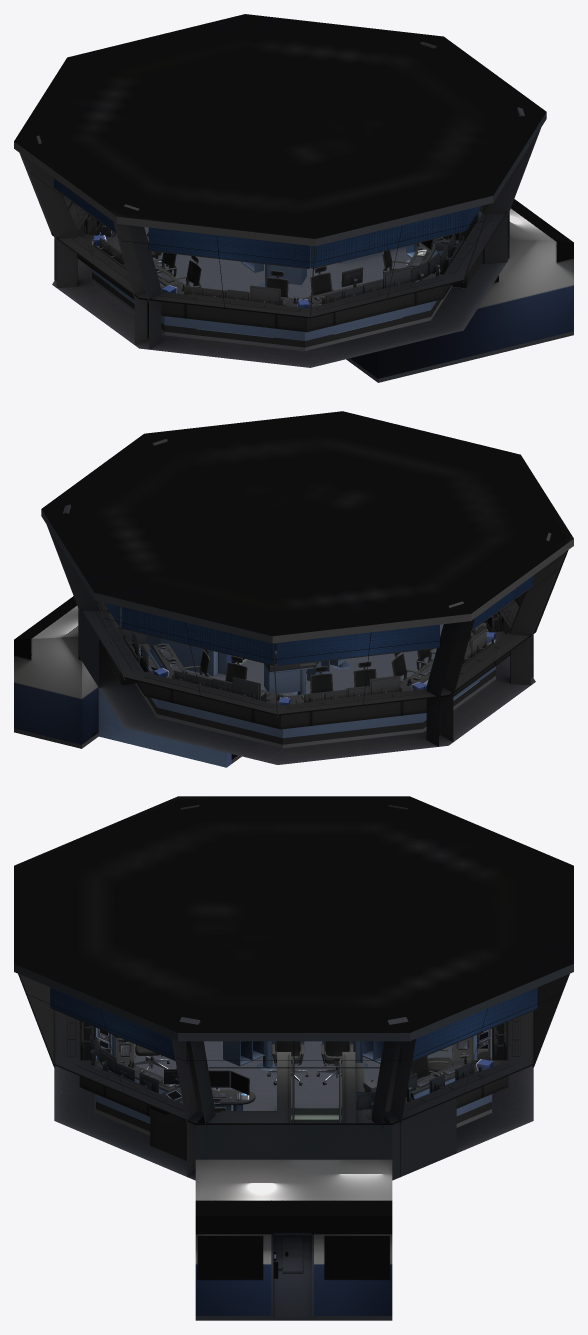
File: taitai max.fbx
3 renders of one model, top to bottom at view 1: azimuth 30°, elevation 25°; view 2: azimuth 150°, elevation 25°; view 3: azimuth 270°, elevation 25°, orthographic. The views are drawn at different scales.
Visible parts, largest first — view 1: Cylinder.025, Cylinder.046, Cube.017, Cylinder.004, Cylinder.035, Cube.058, Cube.036, Cylinder.012, Cube.031; view 2: Cylinder.025, Cylinder.046, Cube.017, Cylinder.004, Cylinder.035, Cube.058, Cube.014, Cylinder.008, Cube.044, Cube.048; view 3: Cylinder.025, Cube.017, Cylinder.046, Cylinder.004, Cylinder.035, Cylinder.003, Cube.058, Cube.063, Cube.007, Cylinder.002, Cylinder.001.
Part boxes in pixels (left/top/right/bottom): Cylinder.025: left=14, top=14, right=546, bottom=246; Cylinder.046: left=22, top=42, right=540, bottom=350; Cube.017: left=340, top=199, right=573, bottom=382; Cylinder.004: left=52, top=227, right=509, bottom=367; Cylinder.035: left=54, top=178, right=481, bottom=268; Cube.058: left=225, top=259, right=306, bottom=286; Cube.036: left=250, top=285, right=280, bottom=305; Cylinder.012: left=309, top=266, right=334, bottom=296; Cube.031: left=383, top=266, right=411, bottom=288; Cylinder.025: left=41, top=411, right=573, bottom=643; Cylinder.046: left=47, top=439, right=565, bottom=748; Cube.017: left=14, top=596, right=247, bottom=767; Cylinder.004: left=99, top=624, right=535, bottom=764; Cylinder.035: left=105, top=575, right=533, bottom=665; Cube.058: left=264, top=658, right=350, bottom=695; Cube.014: left=138, top=643, right=183, bottom=671; Cylinder.008: left=309, top=666, right=334, bottom=693; Cube.044: left=369, top=675, right=400, bottom=694; Cube.048: left=232, top=677, right=260, bottom=700; Cylinder.025: left=14, top=796, right=573, bottom=1041; Cube.017: left=195, top=1052, right=392, bottom=1320; Cylinder.046: left=18, top=805, right=569, bottom=1180; Cylinder.004: left=54, top=1041, right=533, bottom=1180; Cylinder.035: left=50, top=987, right=537, bottom=1060; Cylinder.003: left=20, top=974, right=567, bottom=1061; Cube.058: left=223, top=1041, right=383, bottom=1070; Cube.063: left=150, top=1088, right=415, bottom=1122; Cube.007: left=452, top=1028, right=491, bottom=1060; Cylinder.002: left=316, top=1041, right=353, bottom=1085; Cylinder.001: left=267, top=1041, right=308, bottom=1085.
Bounding box in the file's own units: 11137 × 5426 × 10181.
